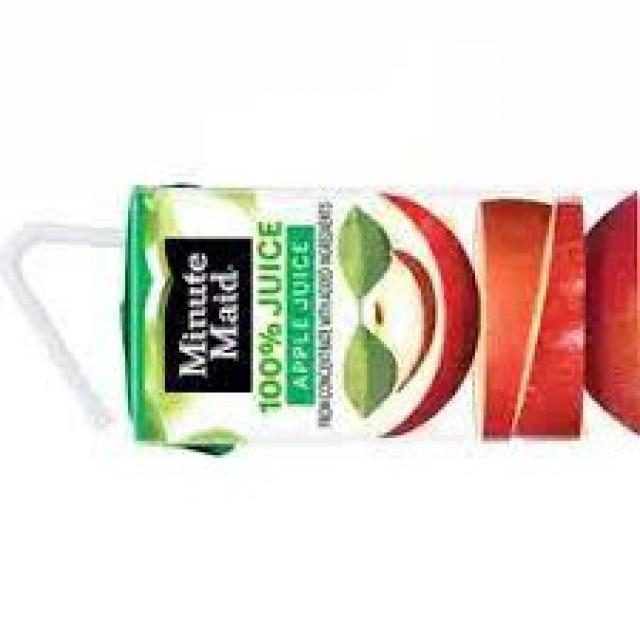non_white_jug: (121, 182, 594, 447)
